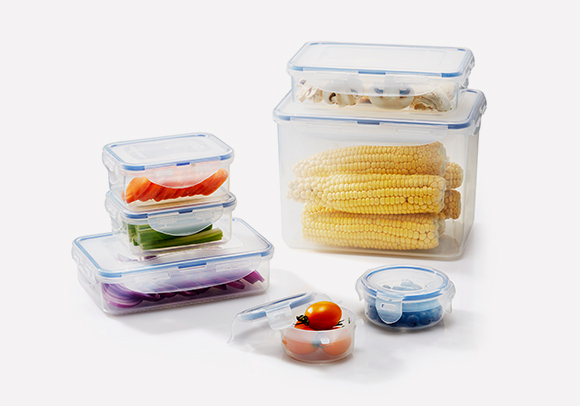PlasticBox: (354, 262, 458, 338)
